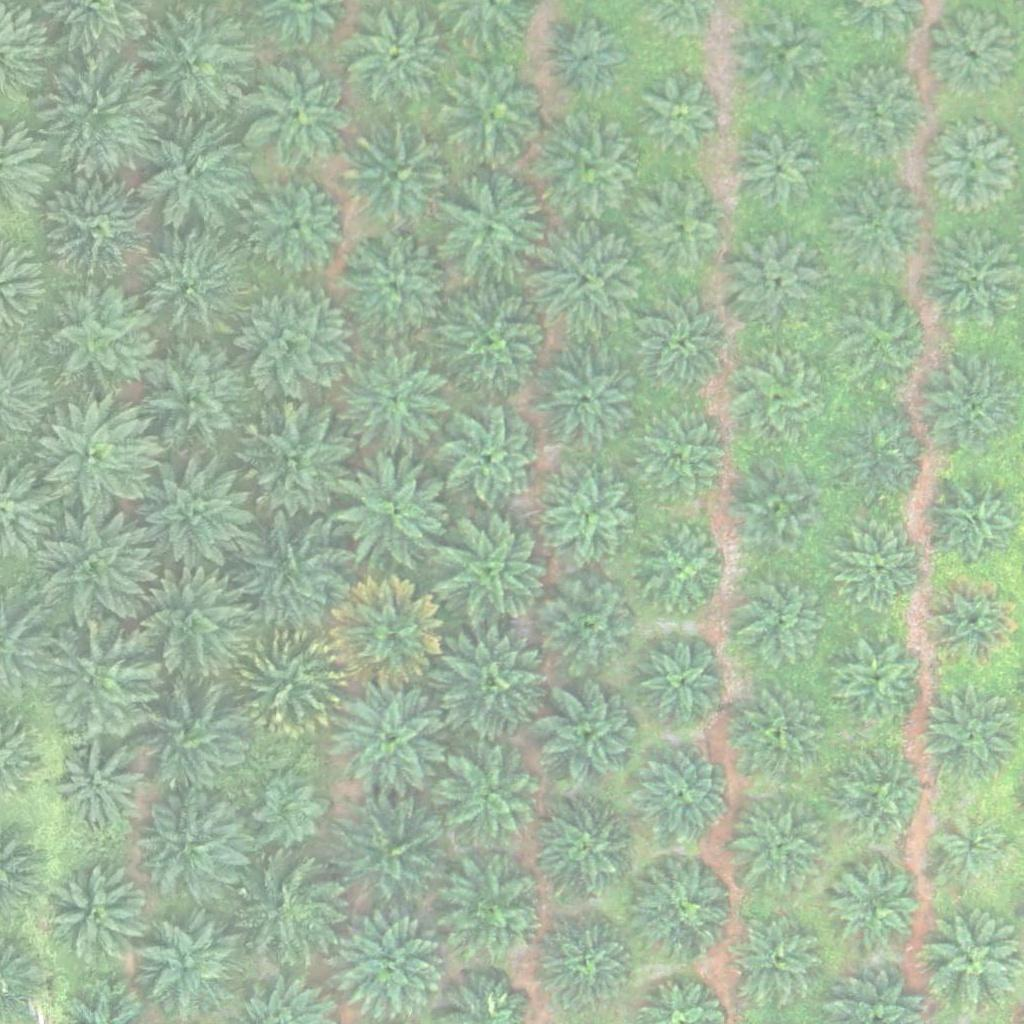Kelapa_Sawit: (44, 57, 157, 170), (45, 174, 158, 287), (141, 5, 254, 118), (138, 119, 251, 232), (132, 230, 245, 343), (140, 345, 253, 458), (240, 285, 353, 398), (243, 399, 356, 512), (242, 517, 355, 630), (433, 172, 546, 285), (531, 224, 644, 337), (534, 344, 647, 457), (435, 745, 548, 858), (331, 578, 444, 691), (233, 627, 346, 740), (333, 679, 446, 792), (330, 797, 443, 910), (40, 514, 152, 628), (134, 684, 246, 798), (138, 787, 250, 901), (43, 620, 155, 734), (40, 283, 152, 396), (39, 404, 151, 517), (142, 456, 254, 569), (245, 59, 357, 172), (347, 125, 459, 238), (340, 231, 452, 344), (340, 350, 452, 463), (337, 456, 449, 569), (440, 290, 552, 403), (441, 514, 553, 627), (434, 627, 546, 740), (131, 571, 243, 684), (251, 176, 351, 277), (441, 410, 541, 511), (633, 405, 733, 506), (733, 4, 833, 105), (828, 57, 928, 158), (833, 178, 933, 279), (923, 228, 1023, 329), (828, 632, 928, 733), (829, 748, 929, 849), (734, 568, 834, 669), (731, 685, 831, 786), (730, 794, 830, 895), (729, 911, 829, 1012), (630, 745, 730, 846), (635, 858, 735, 959), (540, 576, 640, 677), (538, 685, 638, 786), (536, 801, 636, 902), (538, 911, 638, 1012), (446, 855, 546, 956), (137, 916, 237, 1017), (46, 865, 146, 966), (443, 60, 543, 160), (541, 120, 641, 220), (629, 178, 729, 278), (727, 226, 827, 326), (836, 287, 936, 387), (835, 407, 935, 507), (923, 686, 1023, 786), (242, 860, 342, 960), (930, 13, 1018, 102), (735, 127, 823, 215), (734, 349, 822, 437), (737, 468, 825, 556), (837, 524, 925, 612), (546, 474, 633, 562), (641, 298, 728, 386), (933, 481, 1020, 569), (929, 578, 1016, 666), (832, 860, 919, 948), (637, 527, 724, 615), (640, 642, 727, 730), (56, 743, 143, 831), (935, 814, 1010, 890), (551, 22, 626, 98), (645, 75, 720, 151), (251, 771, 326, 847)
